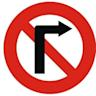No_turn_right: (2, 1, 96, 96)
